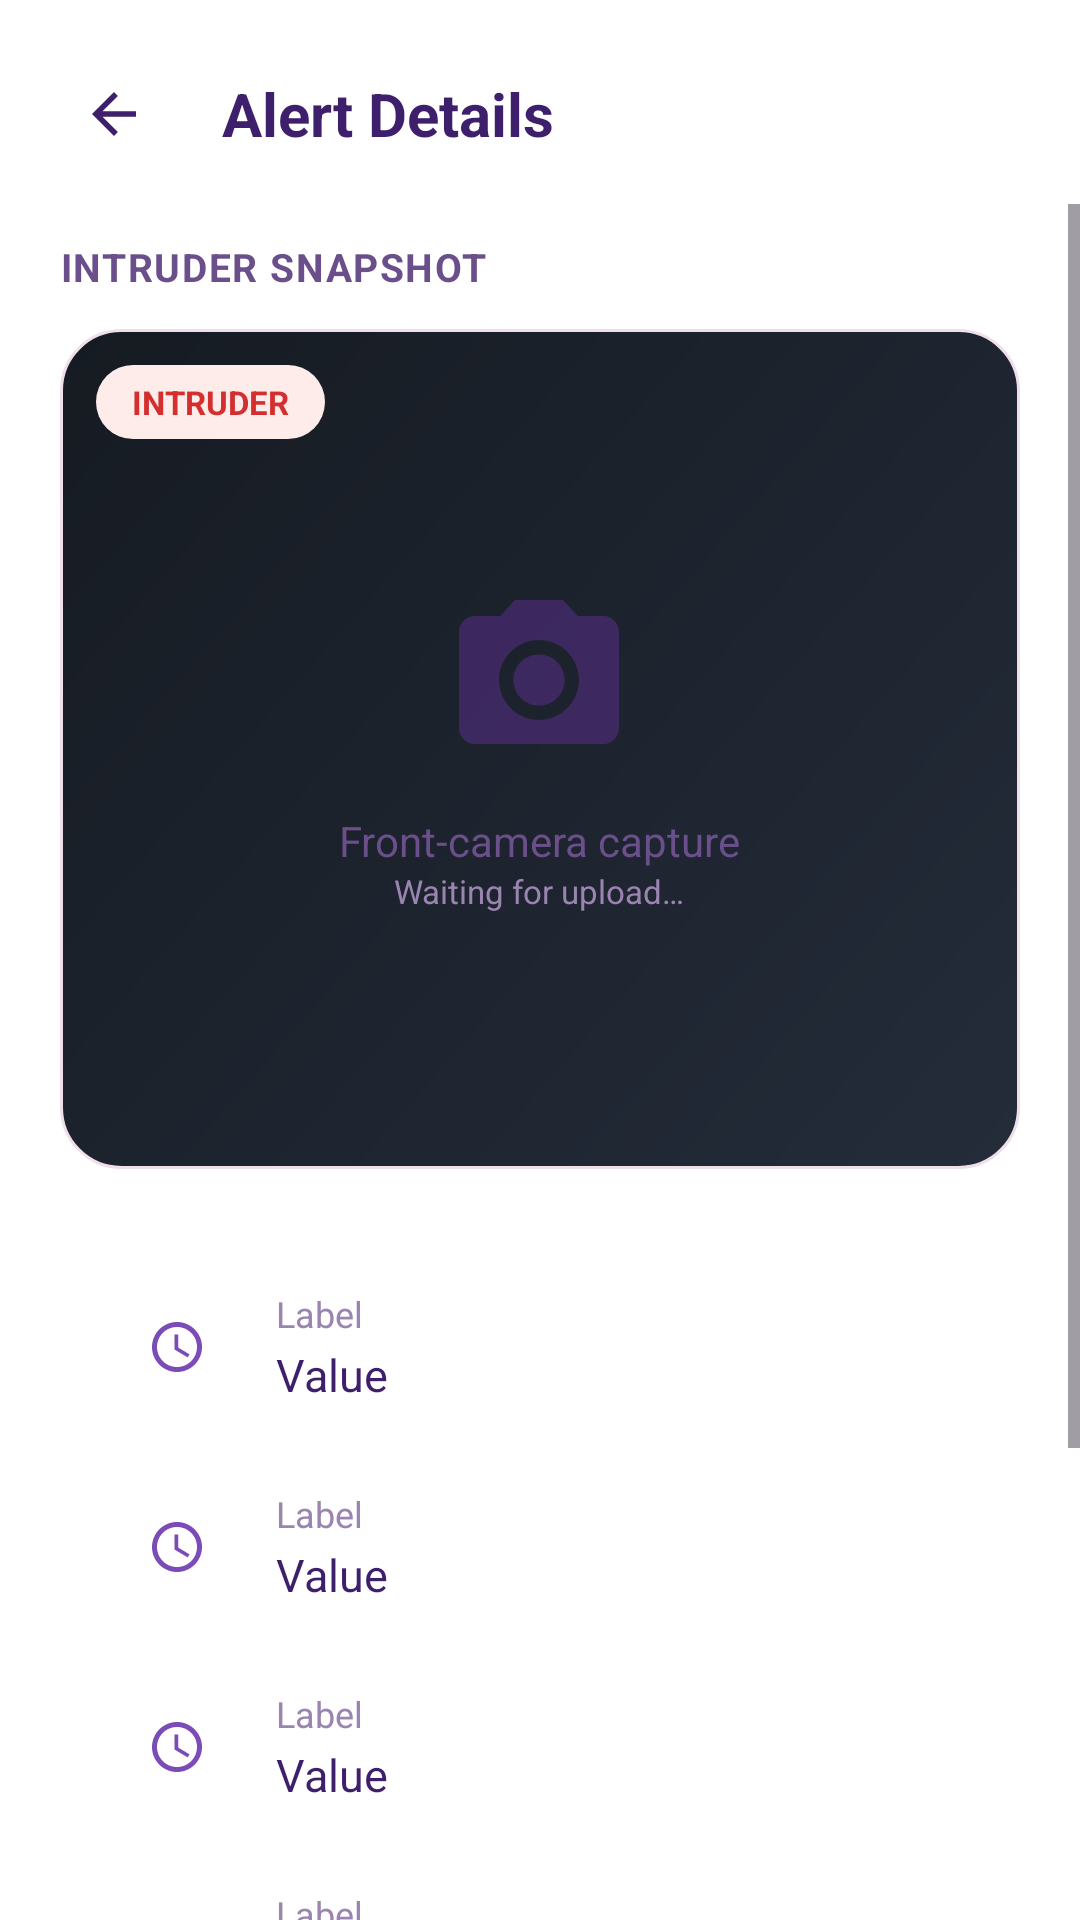

Named icons in this screenshot (1080×1920) and their centers, [x,y]:
back: [114,114]
